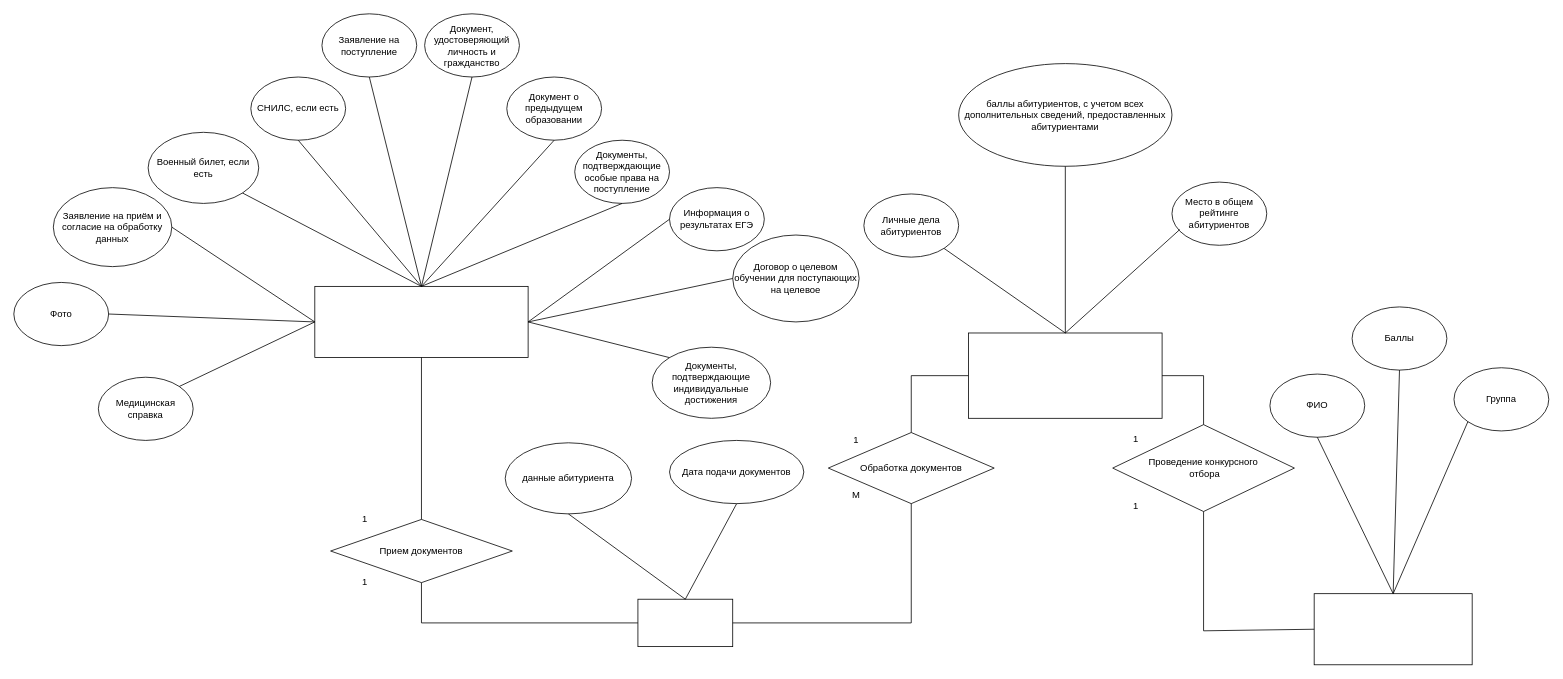
The diagram is 1563 pixels wide and 679 high, and some of its shapes have lost their labels. The centre of each missing label's shape, as x and y in pixels:
"Данные абитуриентов" belongs at point (421, 321).
"личное дело" belongs at point (685, 622).
"Приказы о зачислении" belongs at point (1392, 629).
"Рейтинговые списки абитуриентов" belongs at point (1065, 375).
